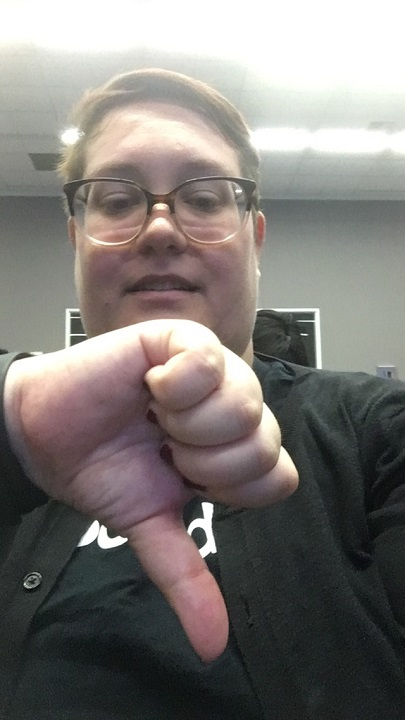defaultd: (10, 319, 300, 665)
